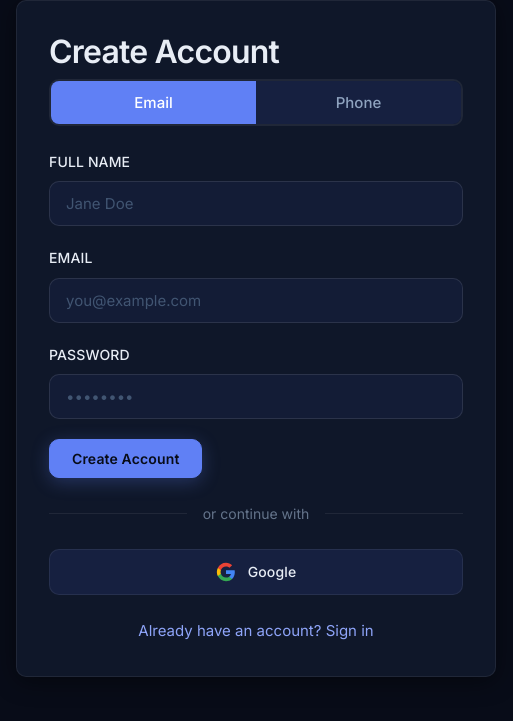
Signup Mode › form validation › shows error for password without number
Type "user@example.com" into the field labelled "Email".
click(256, 300); type("user@example.com")  # box 49,278 -> 463,323
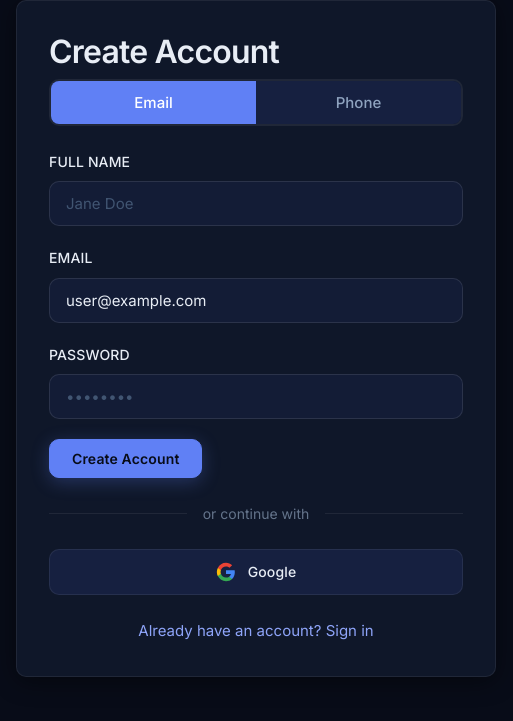
Type "abcdefgh" into the password field labelled "Password".
click(256, 396); type("abcdefgh")  # box 49,374 -> 463,419
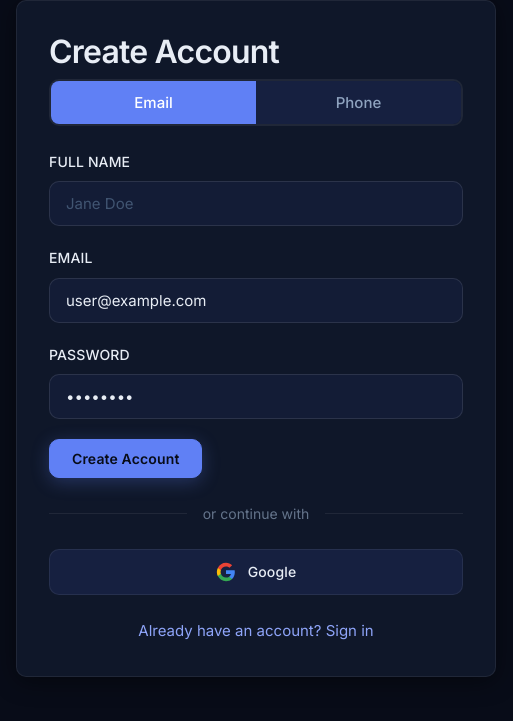
Click the button "Create Account".
click(126, 458)  # box 49,439 -> 202,478
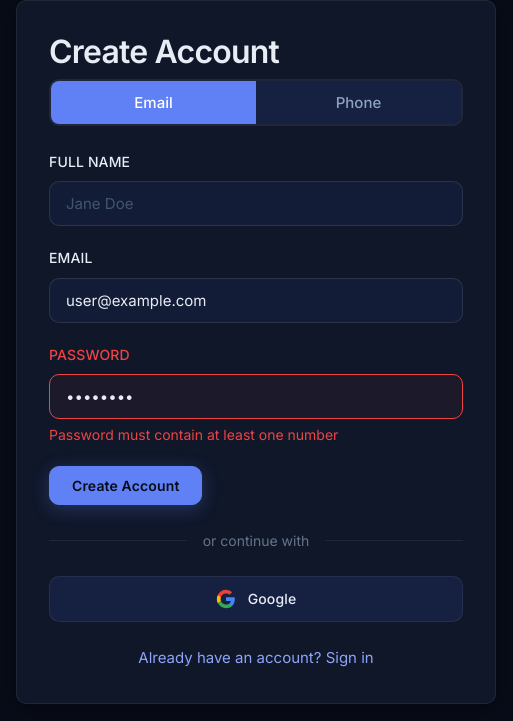
Now the text "Password must contain at least one number" is shown, box 49,426 -> 338,443
